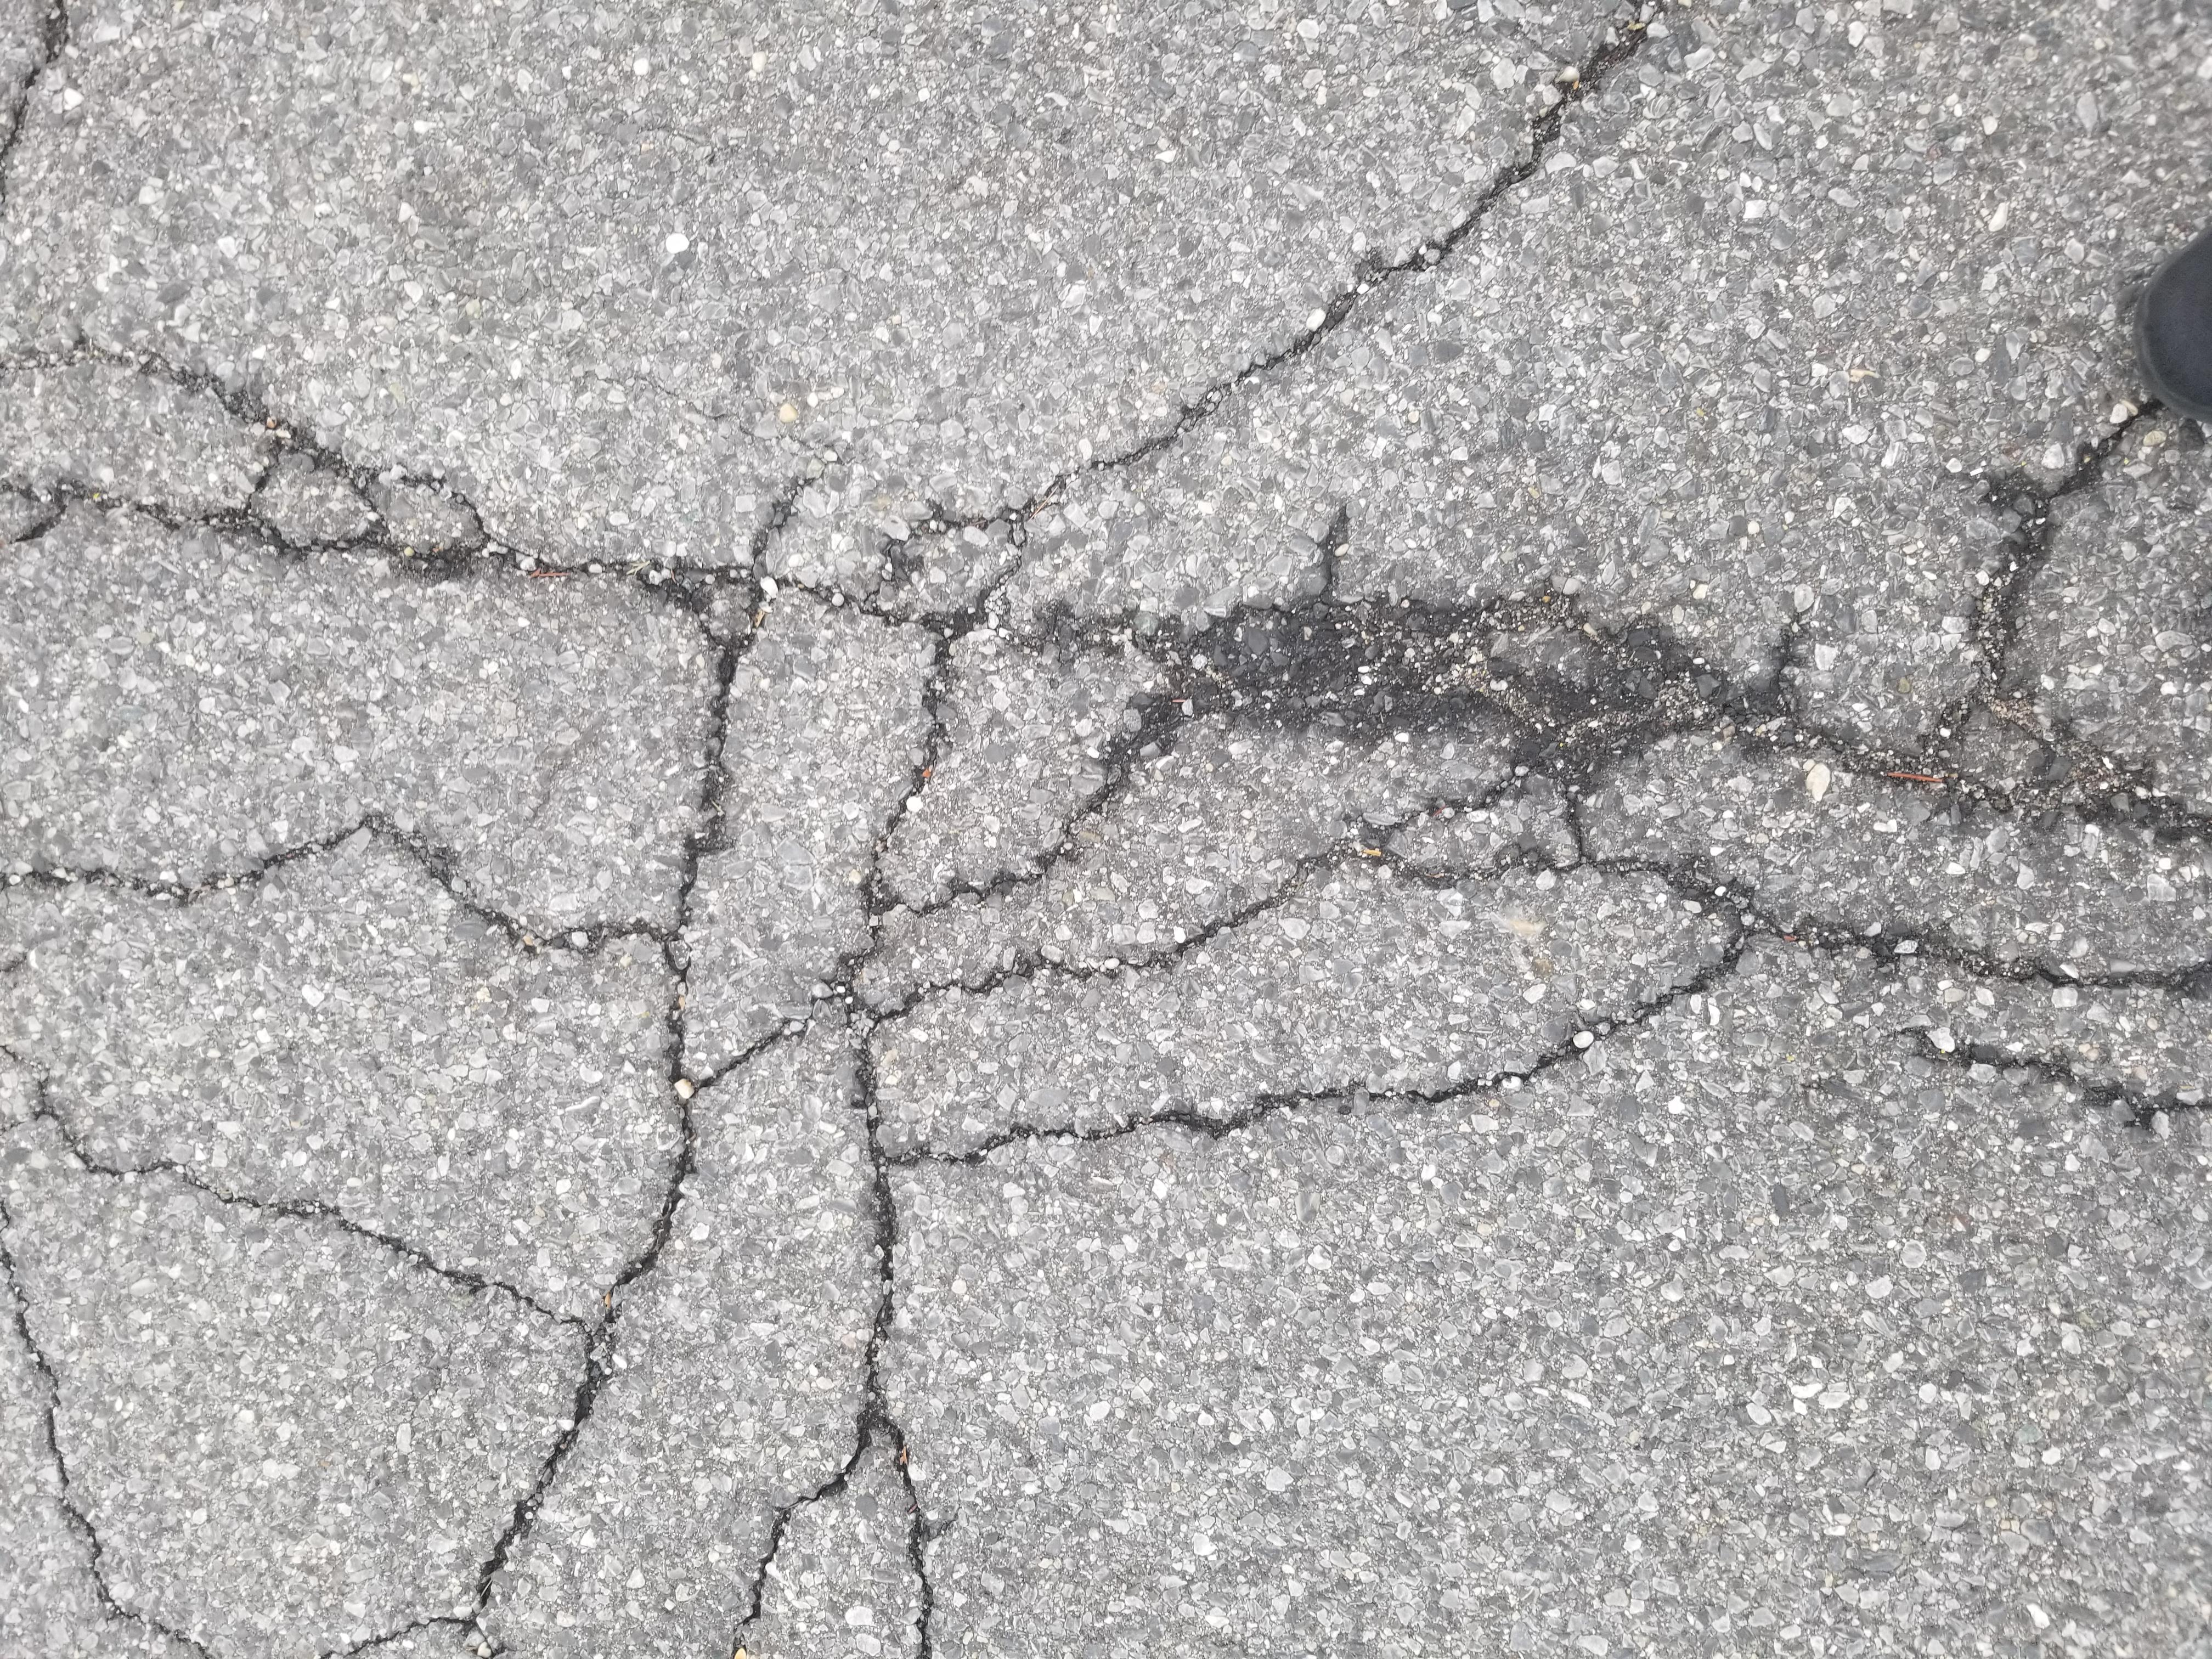alligator-crack: (580, 716, 2212, 1659), (2, 5, 1829, 742)
